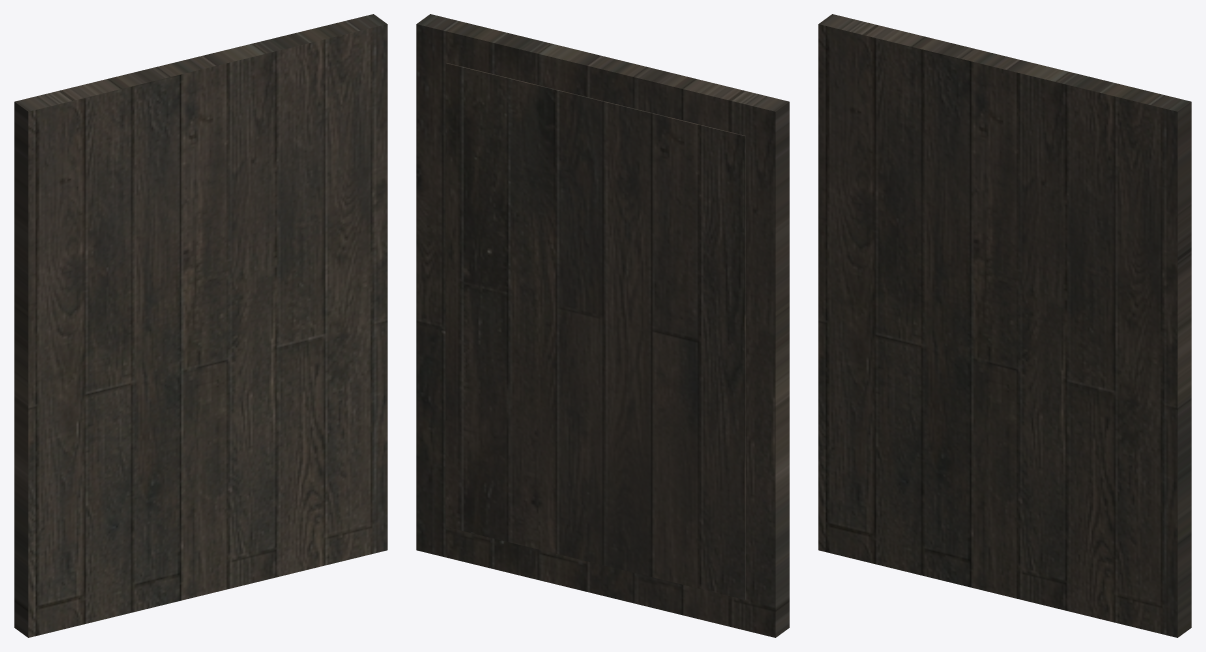
The model's file is SM_Prop_TideTable_01.glb.
3 views of the same model, side by side, from view 1: azimuth 30°, elevation 25°; view 2: azimuth 150°, elevation 25°; view 3: azimuth 330°, elevation 25° (orthographic).
Parts seen in each view (by area): view 1: SM_Prop_TideTable_01; view 2: SM_Prop_TideTable_01; view 3: SM_Prop_TideTable_01.
Boxes of the visible parts, x1,y1,x2,y2 form: SM_Prop_TideTable_01: (14,14,387,637); SM_Prop_TideTable_01: (416,14,789,637); SM_Prop_TideTable_01: (818,14,1191,637).
Bounding box in the file's own units: 0.3 × 0.42 × 0.021.
1 material, 1 textured.
